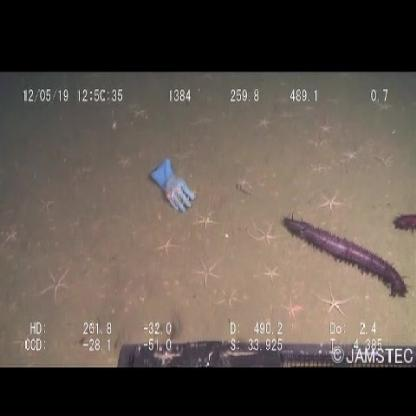Bio: (281, 210, 407, 303)
Rác: (146, 156, 198, 220)
